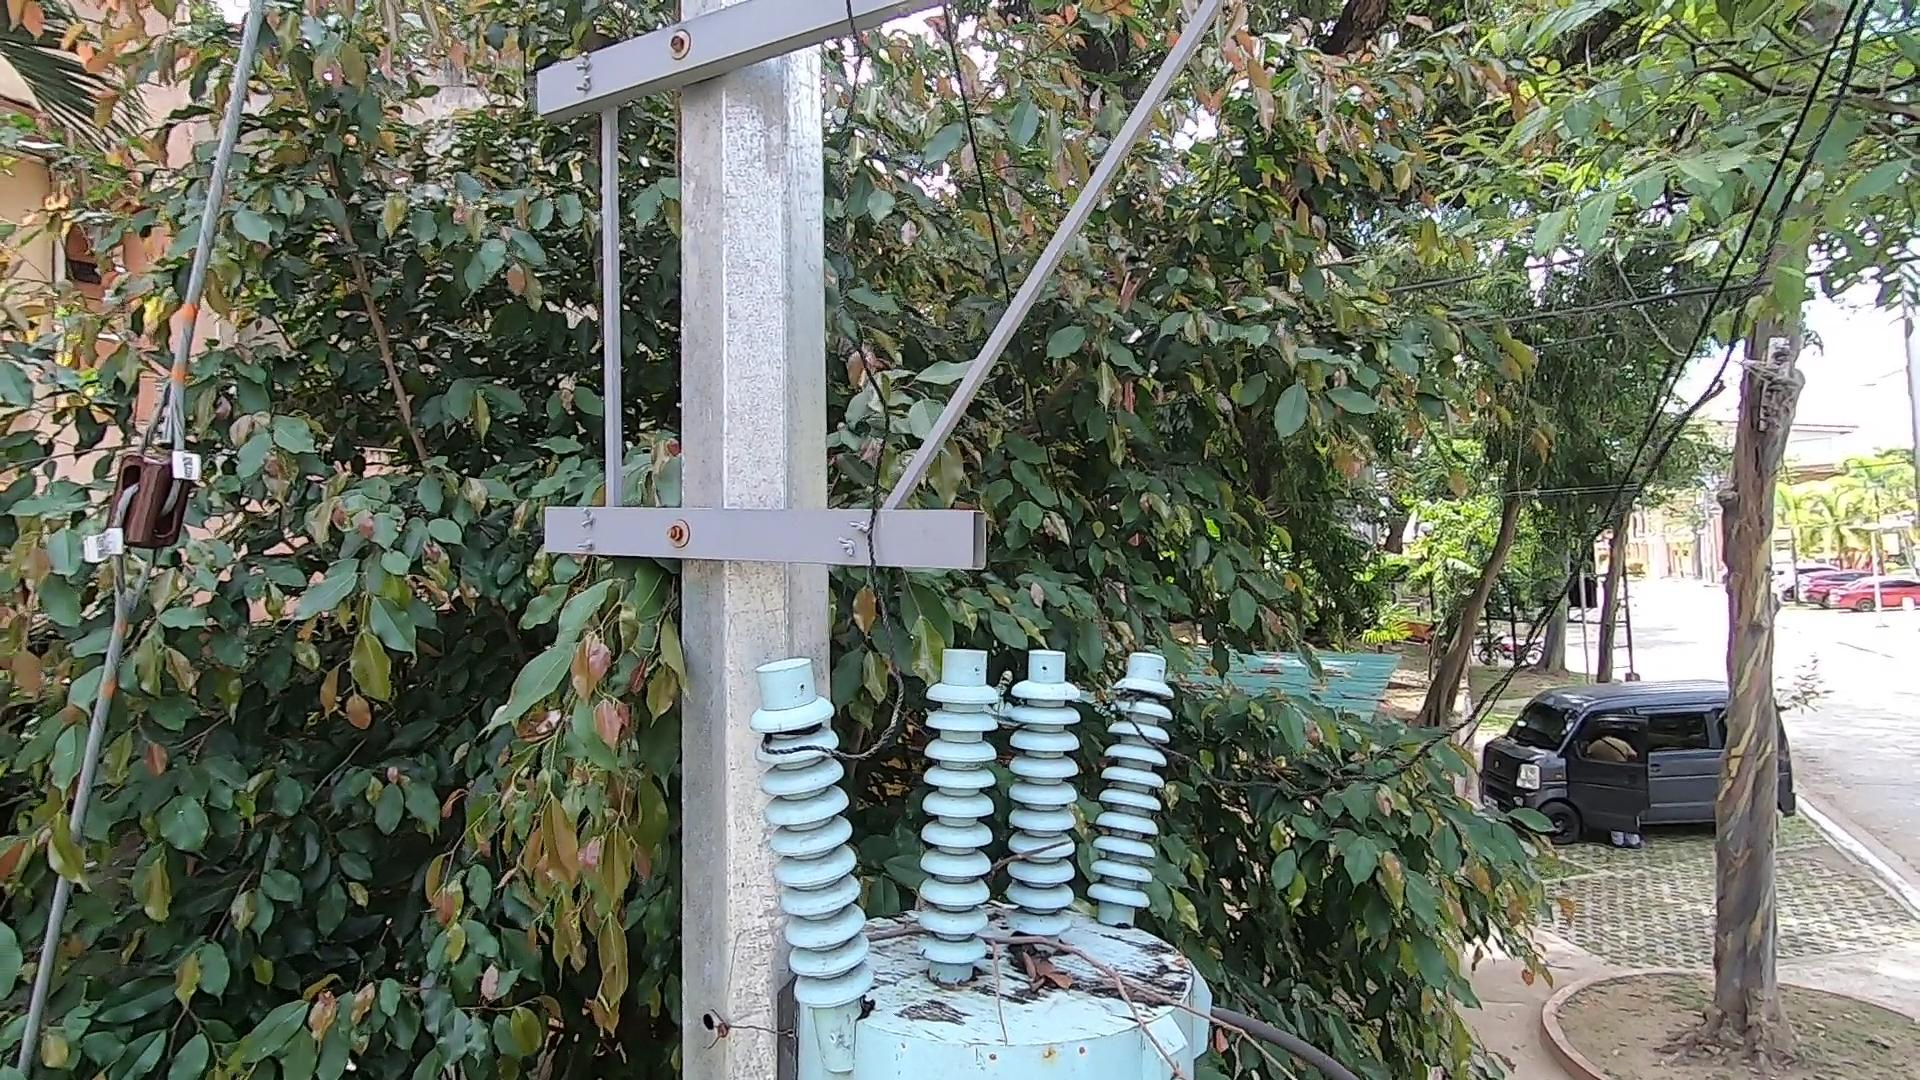leaf: (982, 927, 1083, 994)
tree branch: (860, 903, 1290, 1080)
